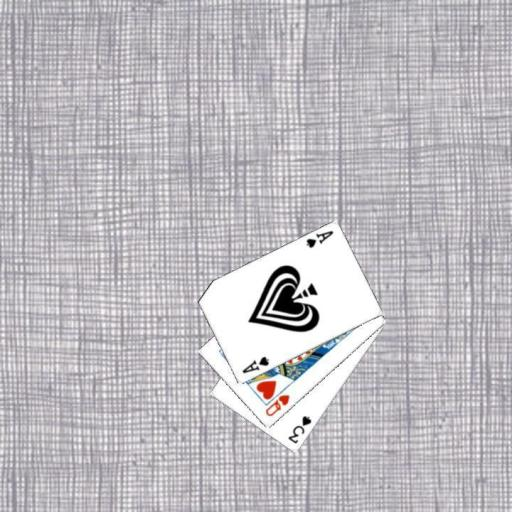card-corner: (285, 413, 313, 445), (262, 392, 291, 418), (303, 228, 335, 250), (239, 353, 270, 375)
